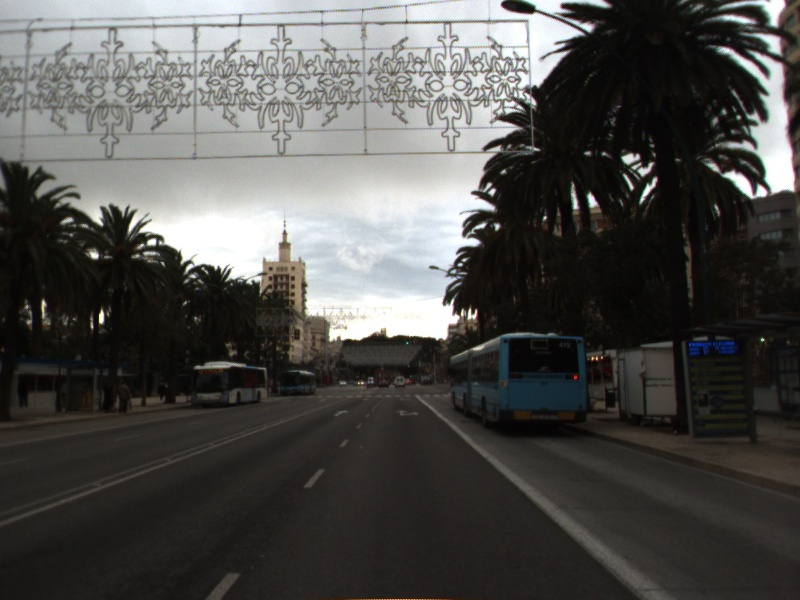STRAIGHT: (332, 408, 350, 418)
STRAIGHT_RIGHT: (393, 408, 421, 418)
